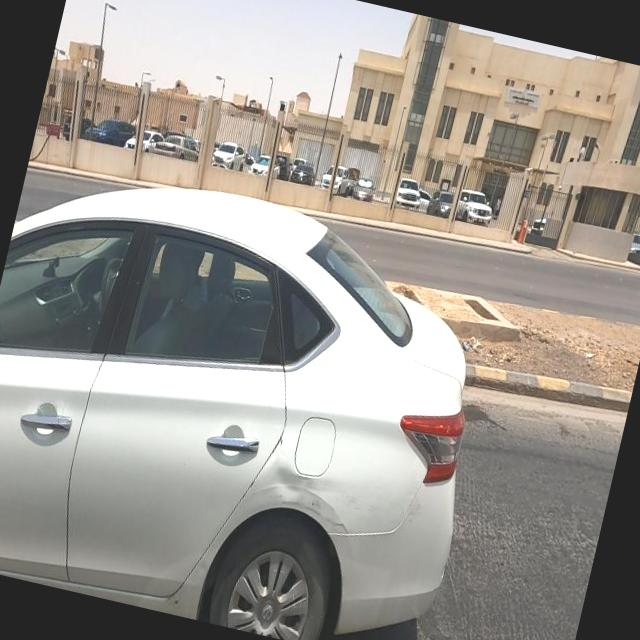debris: (430, 300, 510, 390)
